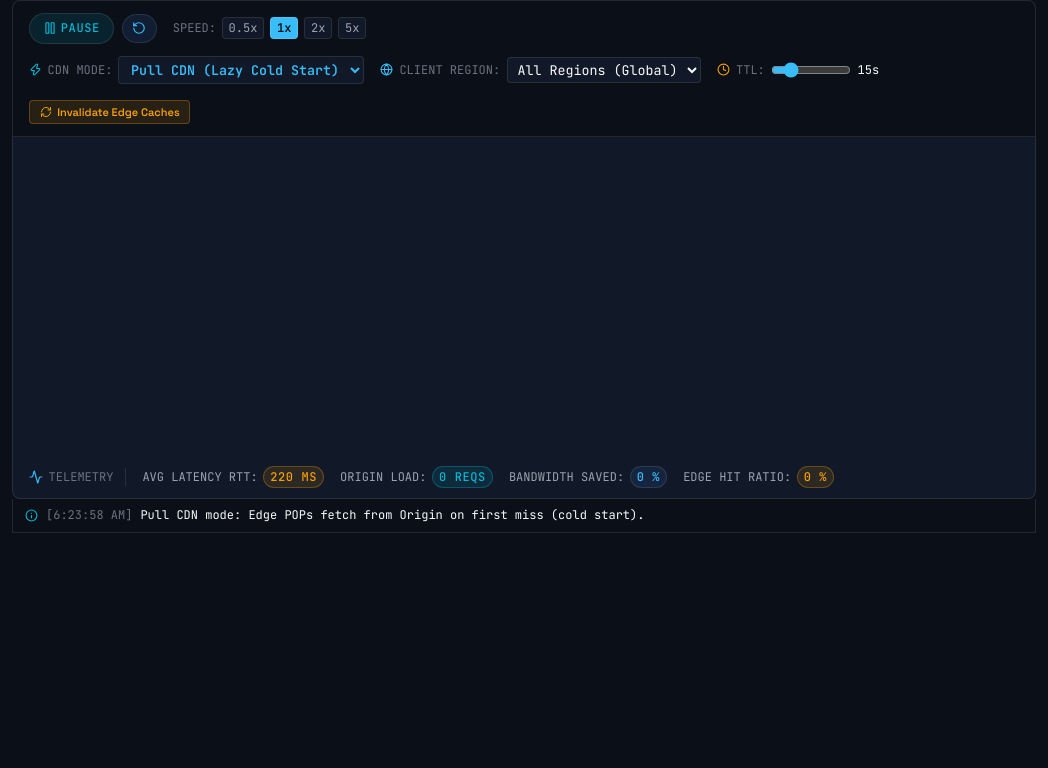
CdnVisualizer (Catalog Viz #2) › allows invalidating edge caches via button click
Click the button "Invalidate Edge Caches" at [110, 112], box [29,100,190,124]
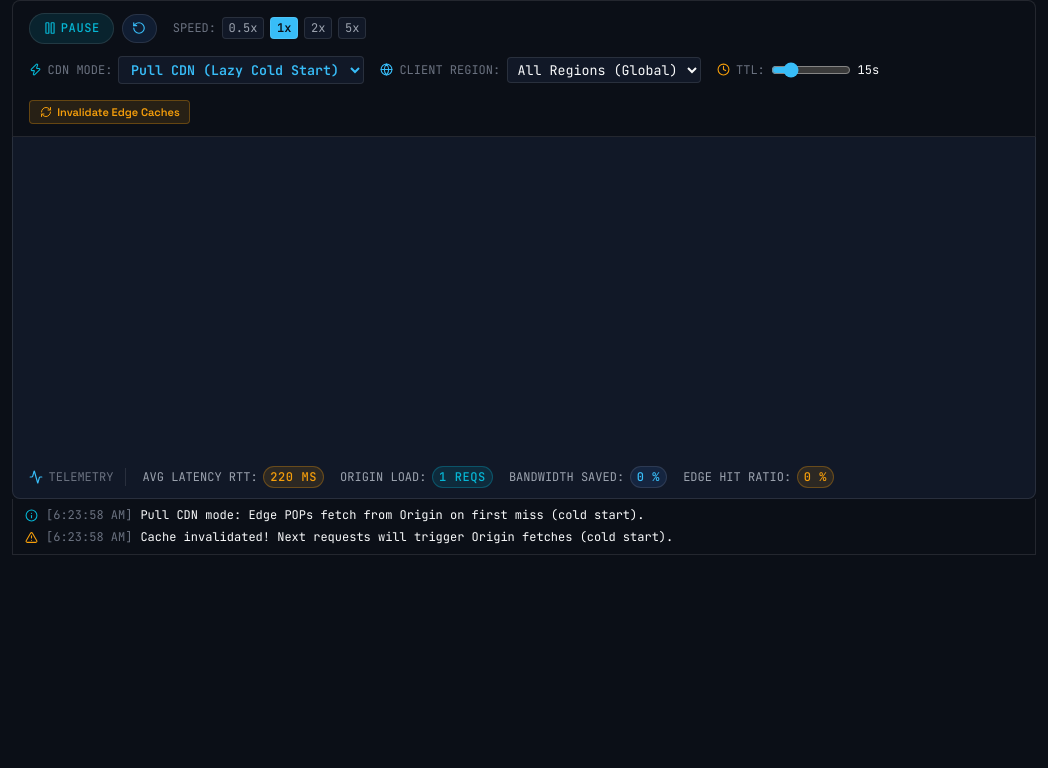
Expected: the text "Cache invalidated! Next requests will trigger Origin fetches" is shown, [140,529,673,545]
